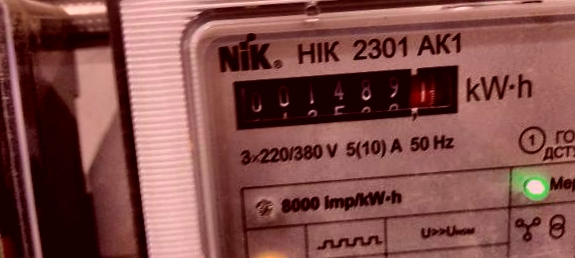0: (274, 81, 292, 107), (247, 88, 264, 114)
1: (302, 78, 319, 108), (414, 74, 429, 105)
4: (329, 76, 348, 103)
8: (355, 74, 375, 102)
9: (384, 73, 401, 99)
screen: (216, 48, 478, 147)
